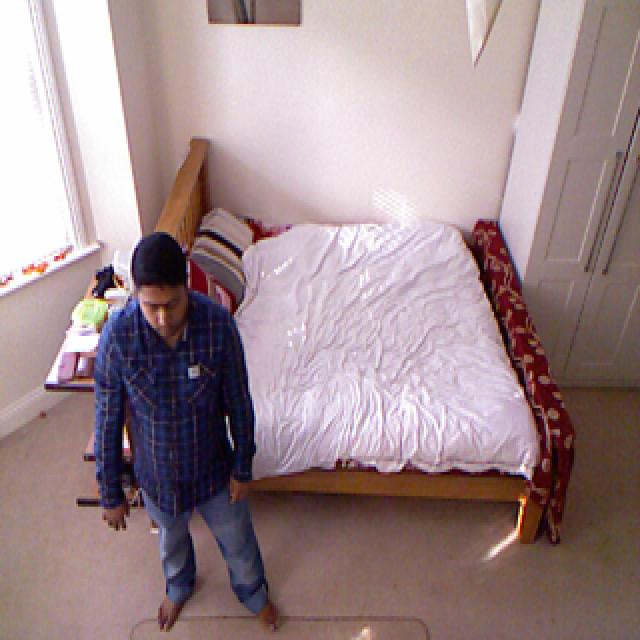standing: (92, 214, 272, 634)
